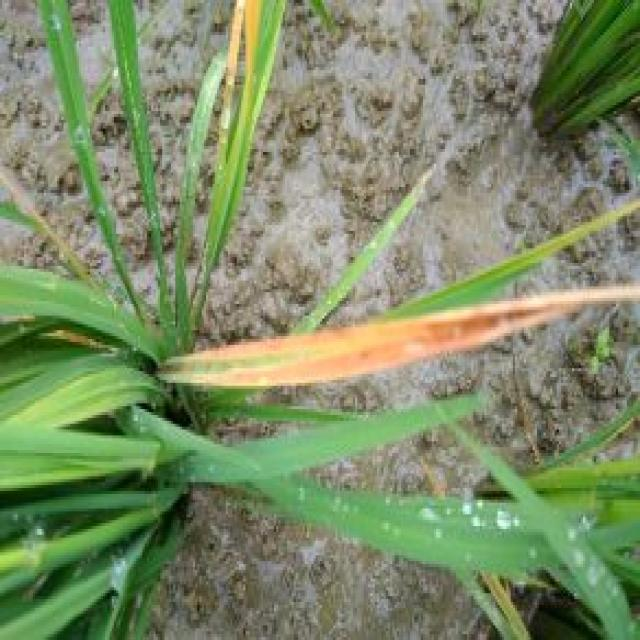Tungro: (161, 286, 640, 394)
